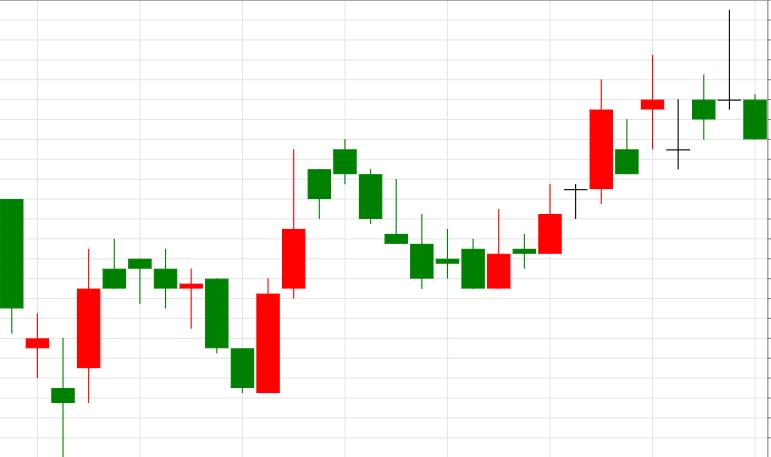bullish_engulfing_rise: (334, 140, 510, 290), (129, 248, 279, 393)
inverse_hammer_rise: (333, 138, 510, 290)
